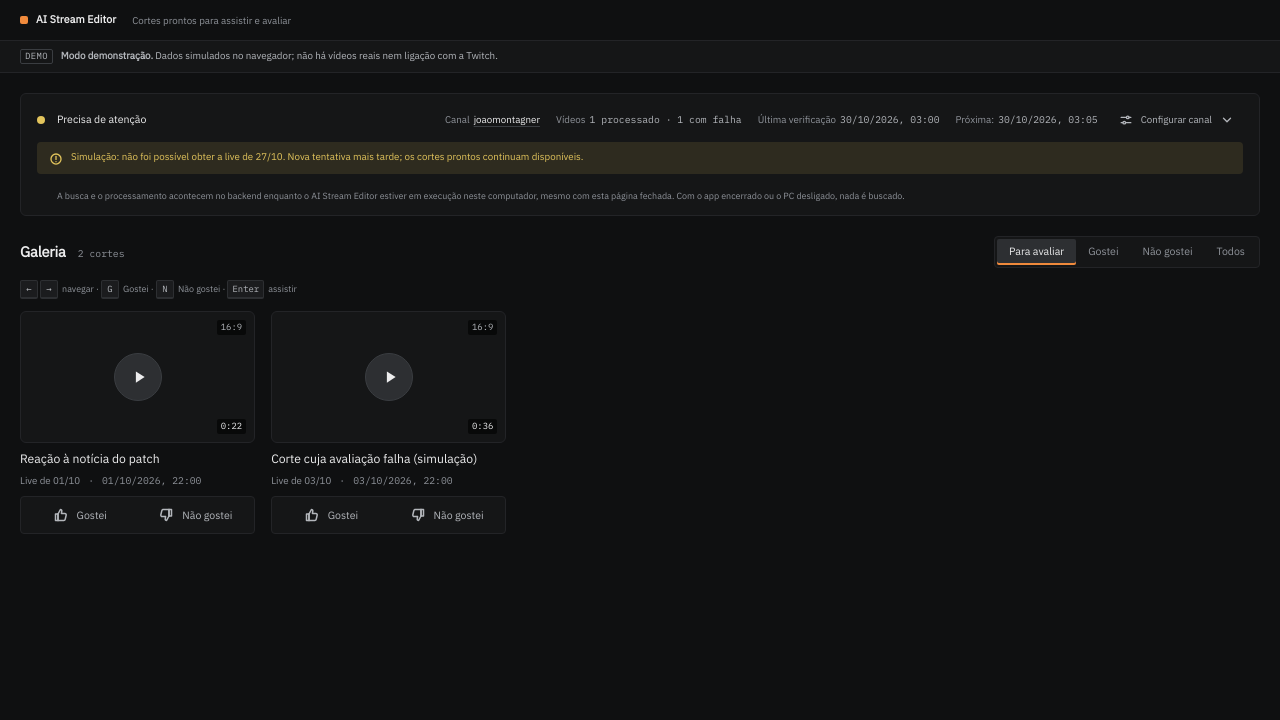
Test case: Galeria: cortes e avaliação › falha ao salvar não finge que a escolha ficou registrada
Click the button "Gostei" below "Live de 03/10".
click(331, 515)  # box top-left (274, 499), bottom-right (388, 531)
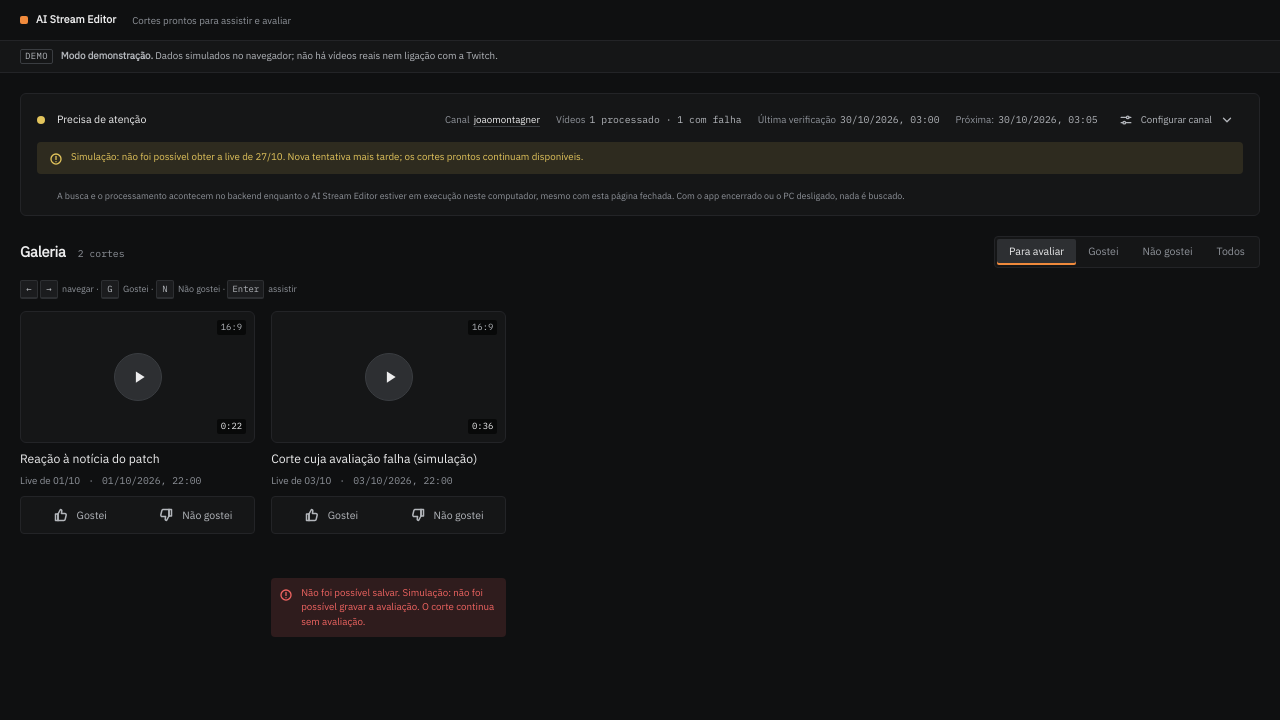
Result: the text "Não foi possível salvar" is shown at top-left (301, 586), bottom-right (403, 599)
Result: the text "O corte continua sem avaliação" is shown at top-left (301, 600), bottom-right (494, 628)
